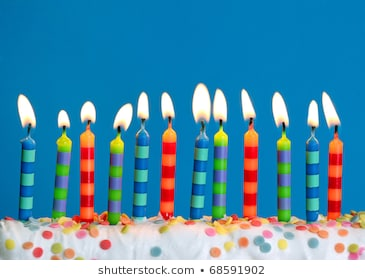Fire: (189, 83, 212, 124), (15, 91, 38, 130), (321, 87, 341, 130), (270, 90, 291, 128), (110, 100, 133, 132), (239, 85, 258, 121), (158, 88, 179, 120), (214, 87, 228, 124), (79, 100, 98, 124), (54, 106, 71, 132), (136, 90, 150, 120), (306, 99, 318, 128)
